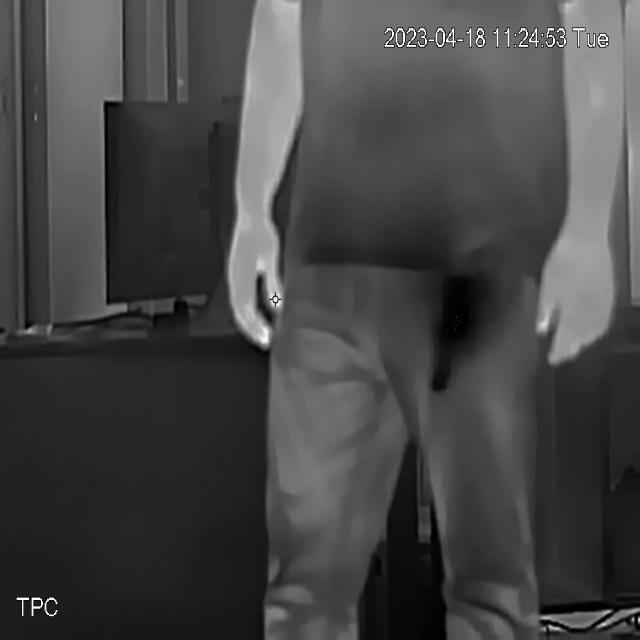Weapon: (421, 238, 523, 411)
